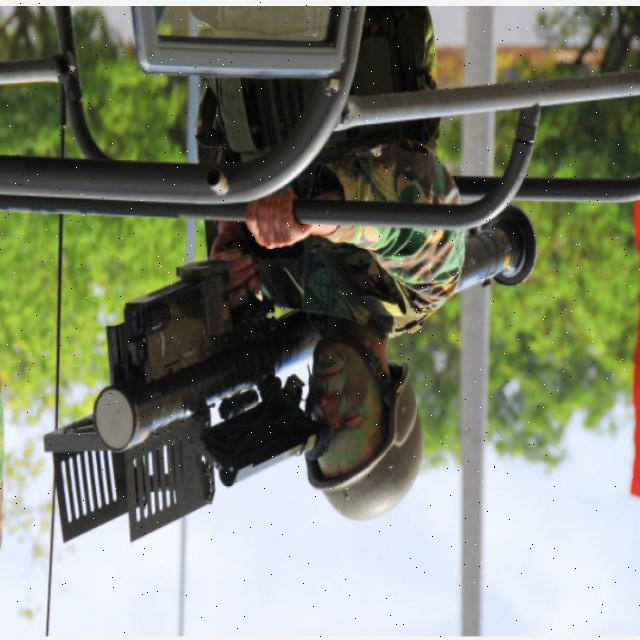bazooka: (36, 172, 556, 557)
